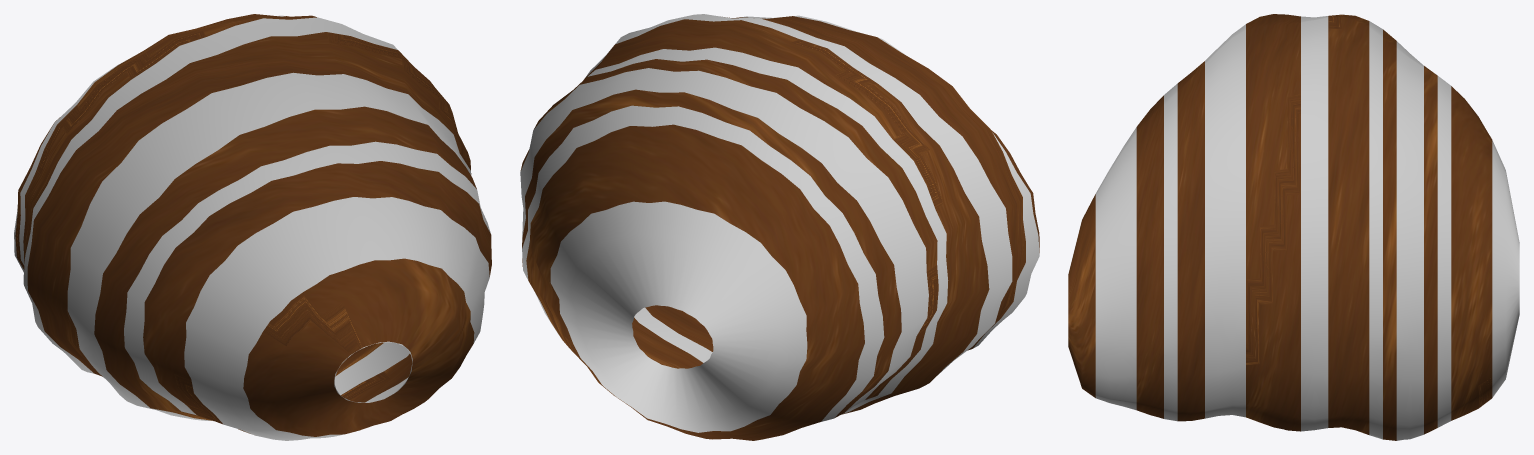
The model's file is shell.obj.
The picture shows the model from 3 angles, left to right: view 1: azimuth 30°, elevation 25°; view 2: azimuth 150°, elevation 25°; view 3: azimuth 270°, elevation 25°; orthographic projection. The views are drawn at different scales.
Visible parts, largest first — view 1: RealisticBandedSnailShell; view 2: RealisticBandedSnailShell; view 3: RealisticBandedSnailShell.
Part boxes in pixels (bbox=[...]): RealisticBandedSnailShell: bbox=[14, 14, 491, 440]; RealisticBandedSnailShell: bbox=[520, 14, 1039, 440]; RealisticBandedSnailShell: bbox=[1068, 14, 1519, 440].
Size of the model in its own units: 1.24 by 0.9799 by 1.08.
